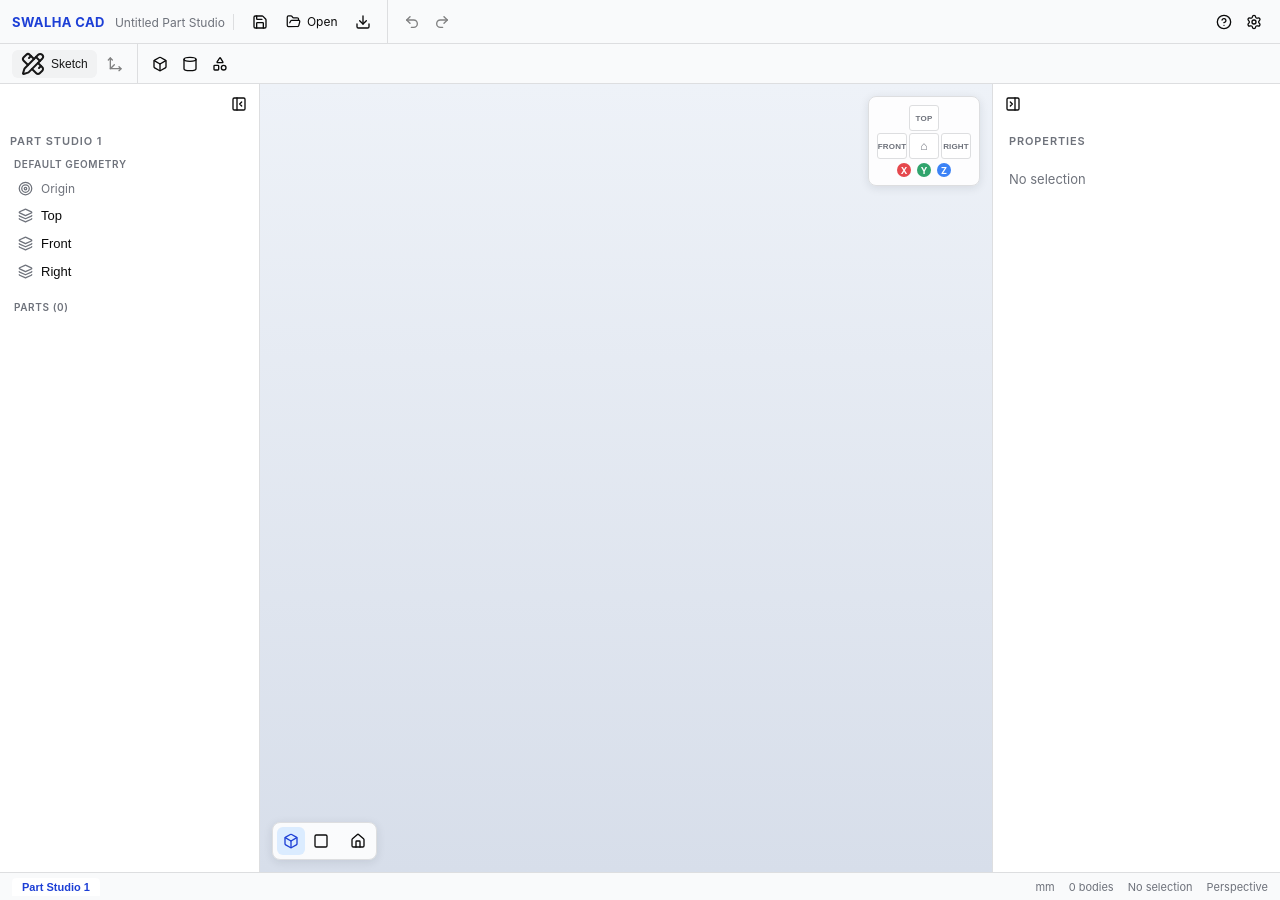
Test: App › undoes and redoes the last command with Ctrl+Z / Ctrl+Shift+Z
Click the button named "add box" at (160, 64), box [146,50,174,78]
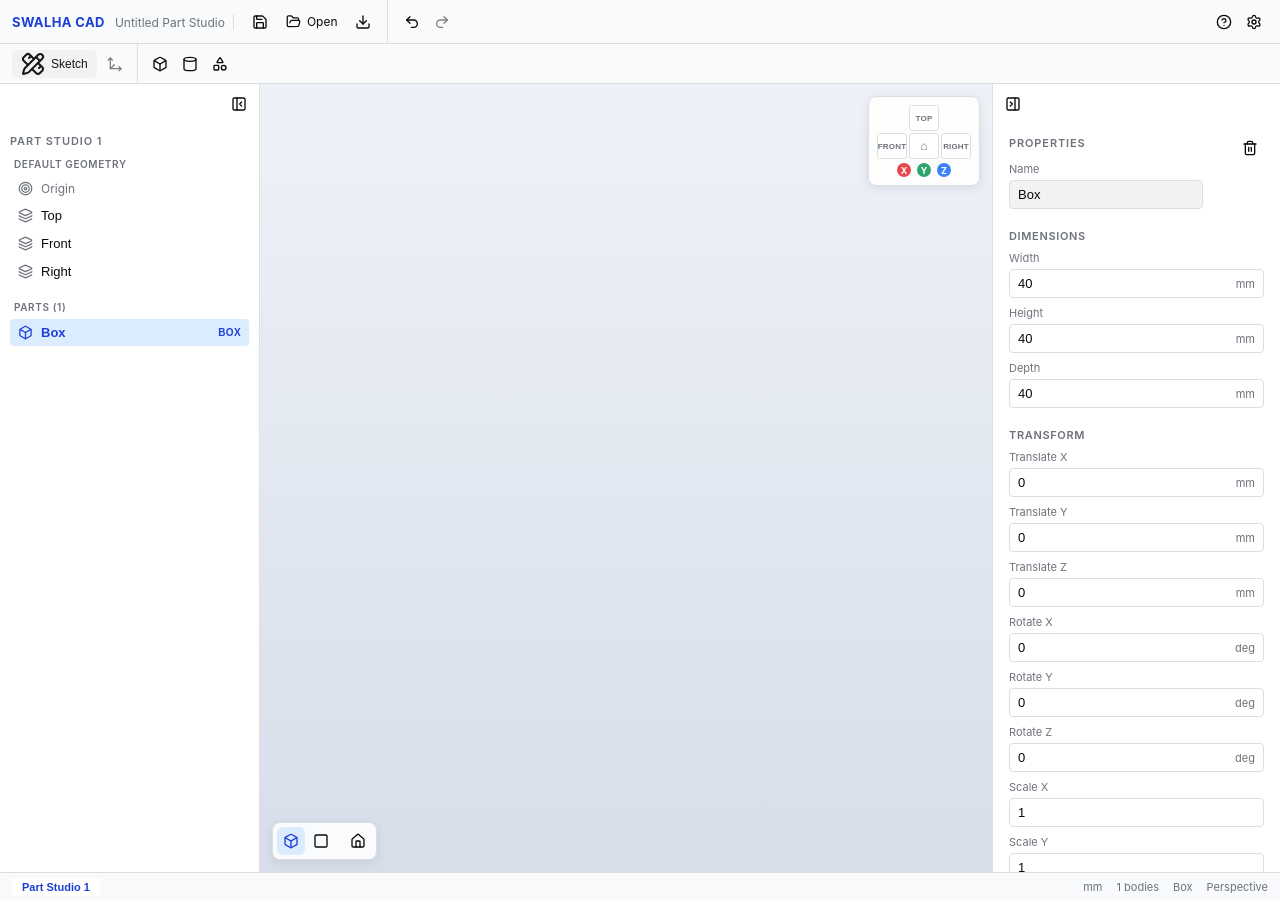
Check: the button named "Undo" is enabled, box [398,8,426,36]
Press z
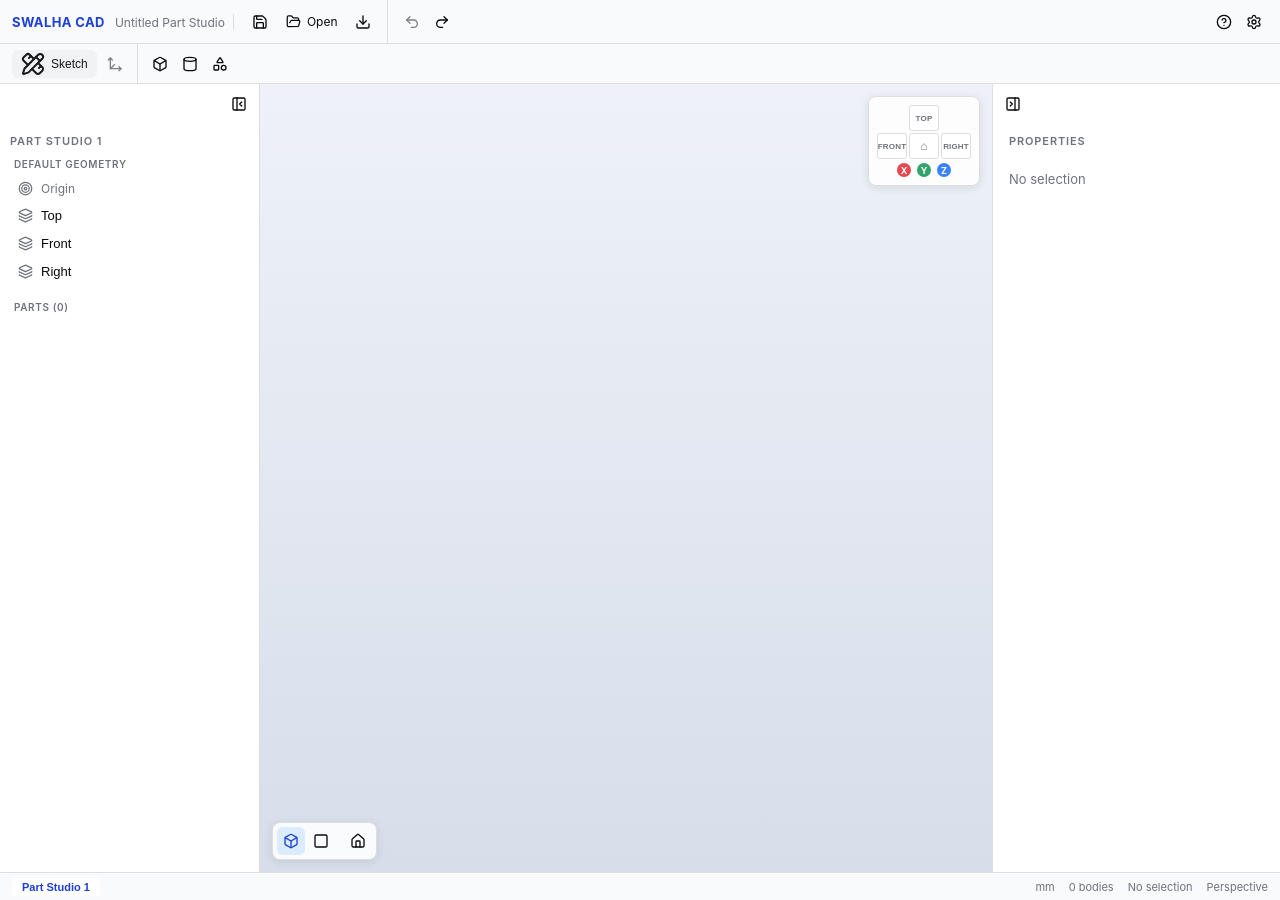
Check: the button named "Undo" is disabled, box [398,8,426,36]
Check: the button named "Redo" is enabled, box [428,8,456,36]
Press z
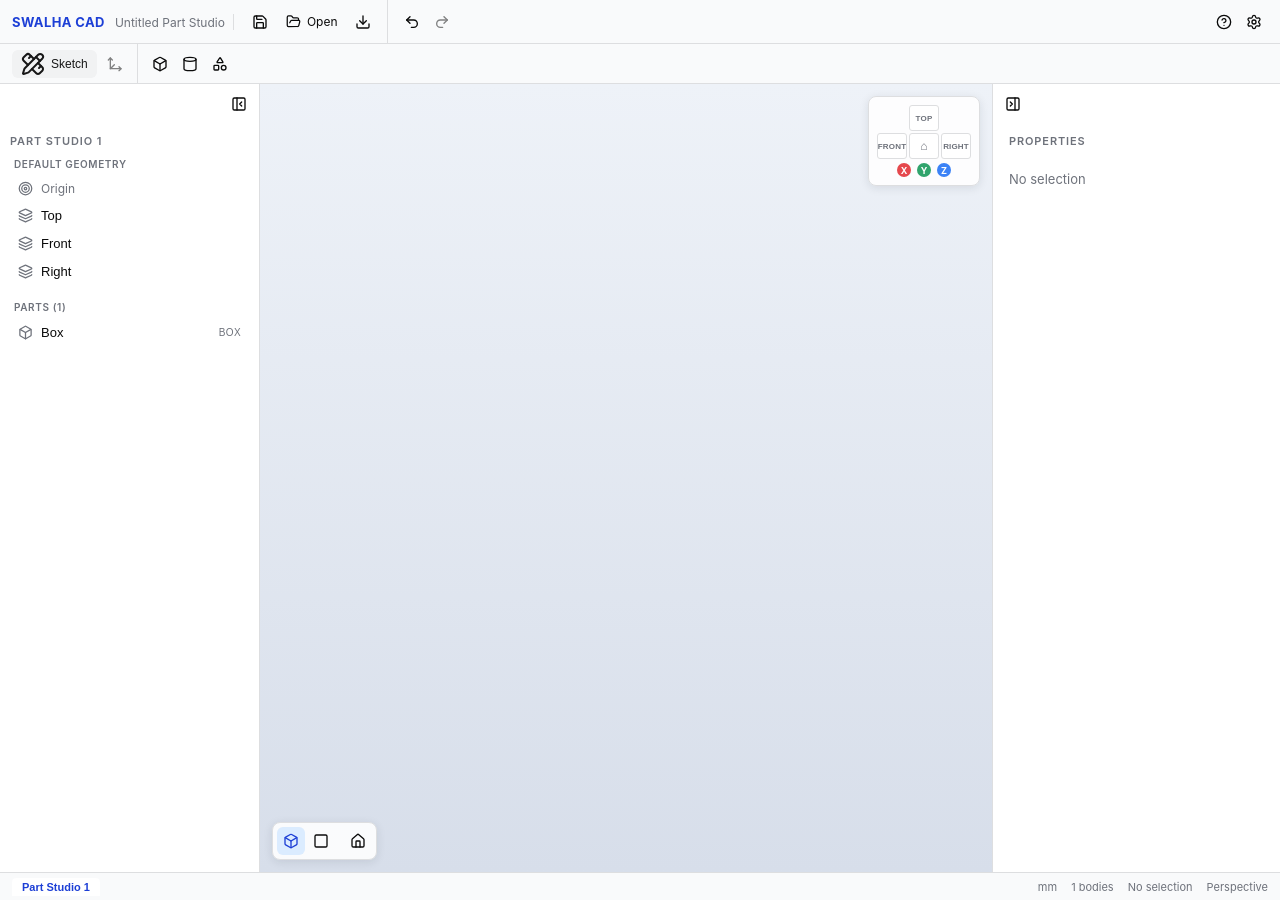
Check: the button named "Undo" is enabled, box [398,8,426,36]
Check: the button named "Redo" is disabled, box [428,8,456,36]
